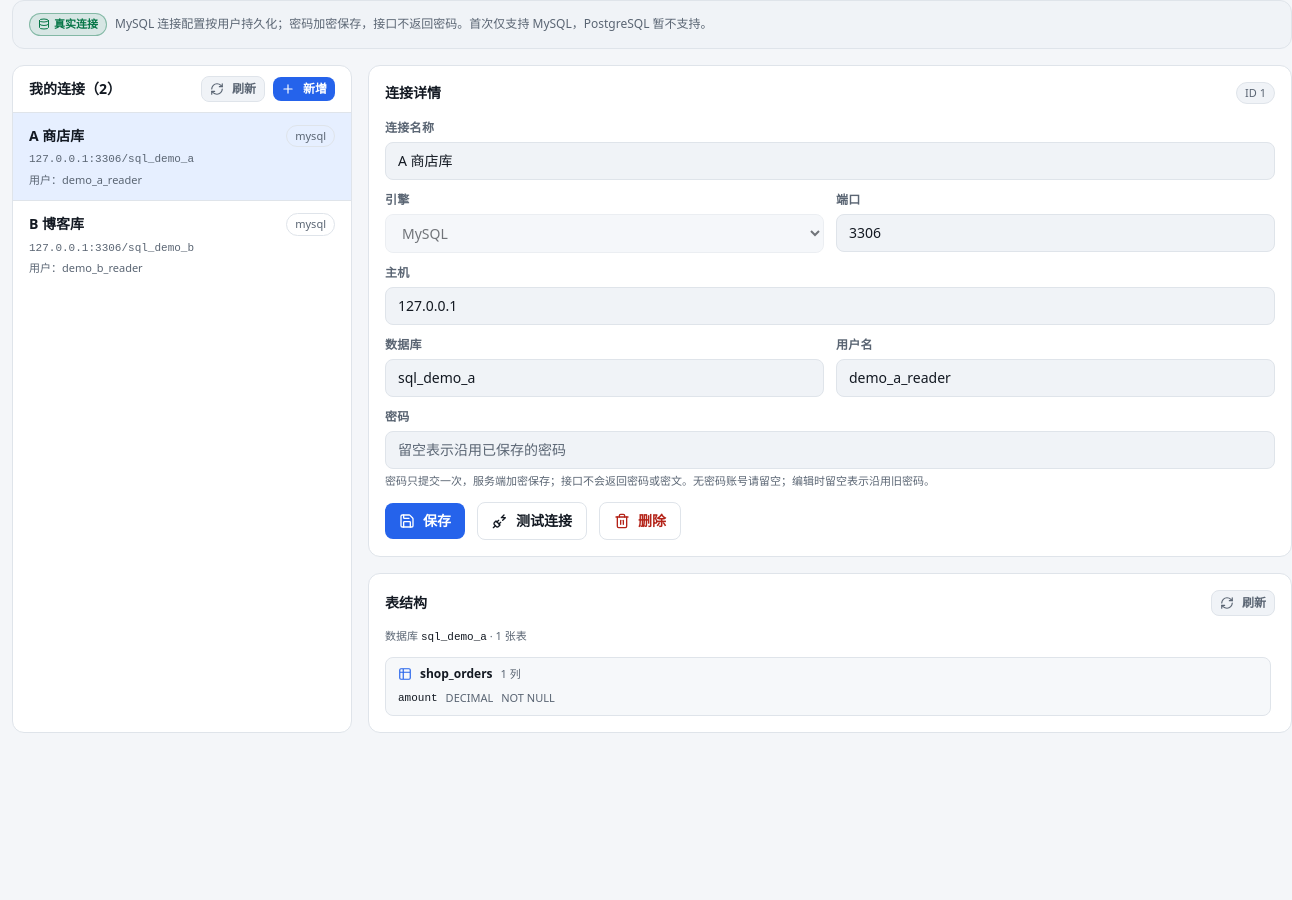
Scenario: DatabasePage 真实连接管理 › 测试连接展示服务端真实结果
The width and height of the screenshot is (1292, 900).
Expected: the button "A 商店库 mysql 127.0.0.1:3306/sql_demo_a 用户：demo_a_reader" is shown, [13, 112, 351, 200]
Expected: the field labelled "连接名称" is shown, [385, 142, 1275, 180]
Click the button "测试连接".
click(532, 520)  # box [477, 502, 587, 540]
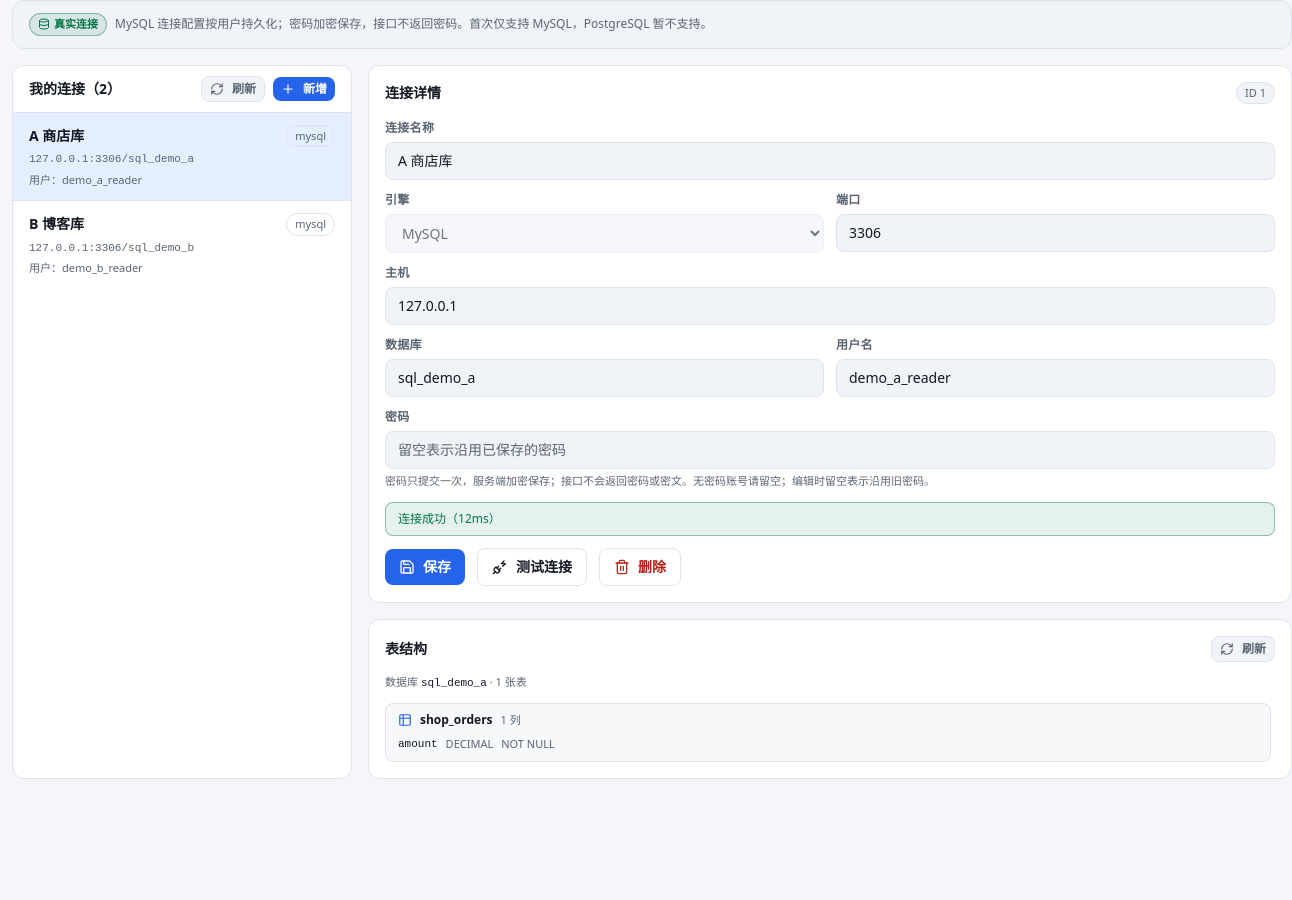
Result: the text "连接成功（12ms）" is shown at [385, 502, 1275, 536]
